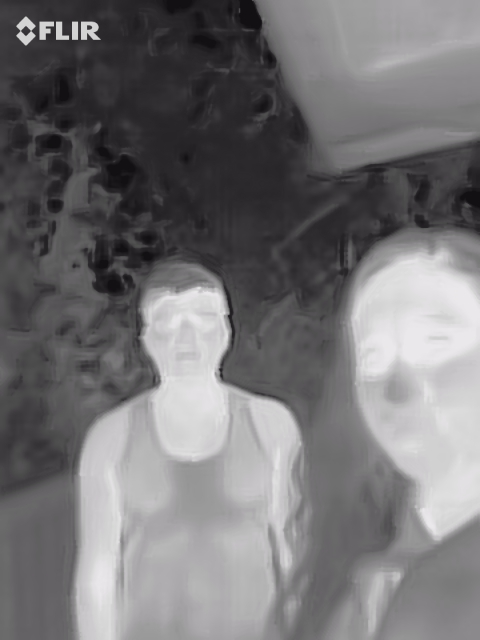head: (349, 237, 476, 484), (141, 262, 232, 376)
